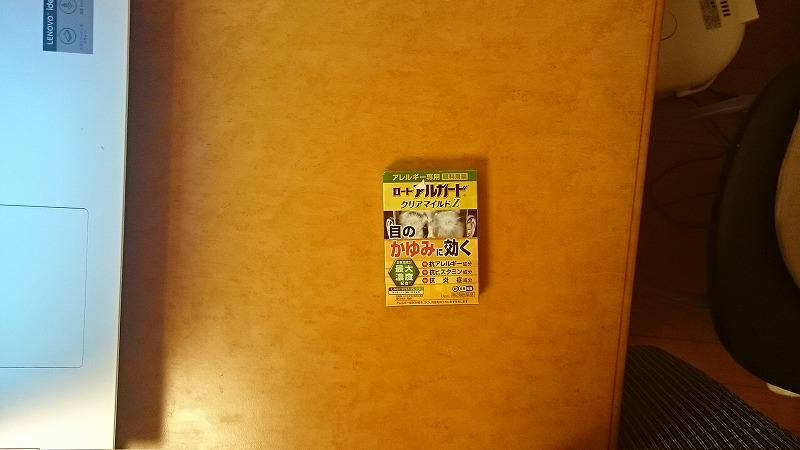C: (377, 167, 487, 310)
